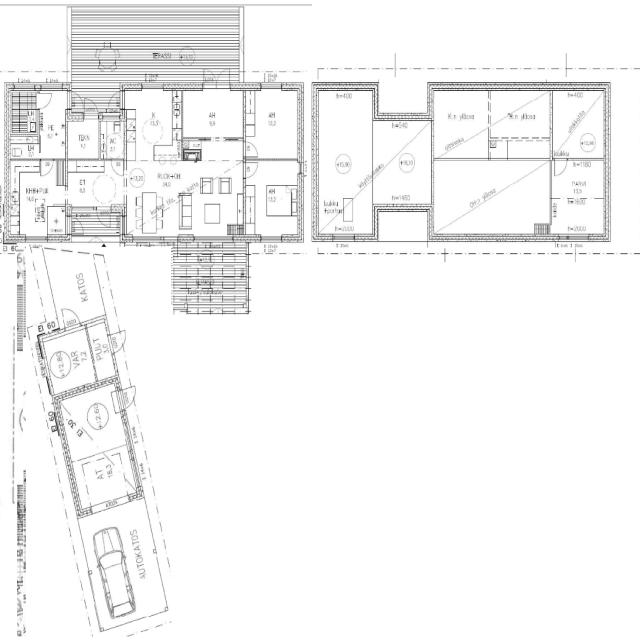door: (202, 69, 220, 90), (552, 156, 569, 178), (96, 205, 112, 228), (70, 215, 86, 237), (215, 68, 231, 90), (243, 139, 260, 158), (110, 157, 126, 176), (143, 76, 163, 91), (243, 160, 259, 178), (39, 158, 54, 177), (107, 91, 122, 110), (70, 91, 84, 109), (38, 91, 52, 108), (85, 98, 98, 116)
window: (328, 232, 356, 242), (296, 130, 305, 160), (564, 232, 590, 242), (135, 237, 159, 247), (260, 234, 283, 244), (24, 234, 47, 244), (260, 82, 282, 92), (142, 84, 164, 92), (296, 160, 305, 178), (44, 82, 62, 90)
zone: (59, 386, 133, 514), (316, 91, 374, 232), (372, 119, 431, 207), (9, 159, 68, 241), (244, 159, 300, 240), (552, 158, 608, 236), (550, 86, 608, 159), (432, 88, 489, 162), (244, 88, 301, 160), (180, 89, 246, 140), (488, 90, 551, 138), (191, 184, 245, 235), (39, 88, 67, 160), (375, 209, 430, 243), (66, 118, 101, 160), (9, 84, 39, 133), (100, 115, 126, 160), (9, 133, 40, 159), (46, 207, 69, 239), (182, 138, 202, 160)
